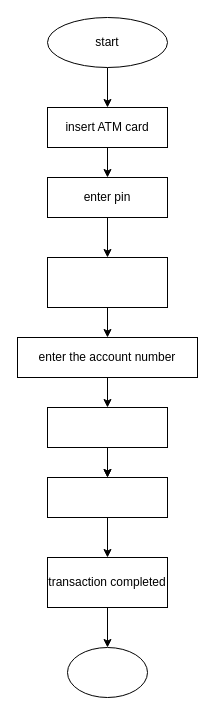
Some shapes in this 215 by 715 pixel diagram are drawn without their labels. The shapes that lost their labels are listed below. From the top down, each one's centre as x and y in pixels, then its label:
pixel 107 282: select trasfer funds option
pixel 107 427: enter the amount transfer
pixel 107 497: confirm the transaction
